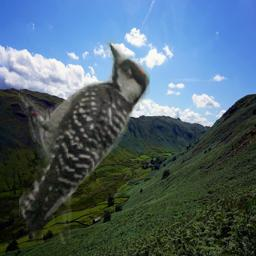Woodpecker: (19, 34, 150, 244)
